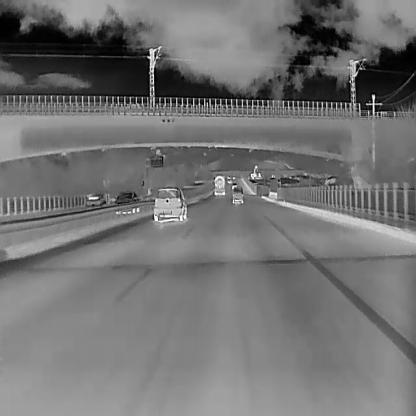car: (152, 186, 188, 223), (111, 190, 139, 213), (85, 191, 105, 208), (213, 173, 226, 196), (231, 186, 243, 203), (227, 175, 232, 183), (231, 181, 237, 187), (232, 173, 236, 179)
